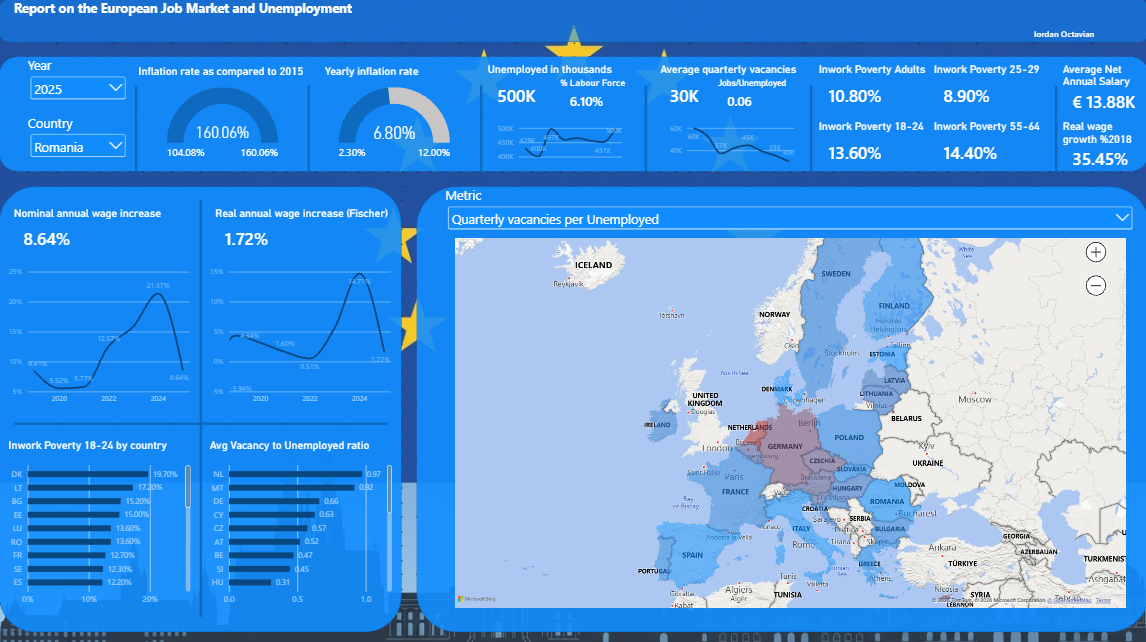

The page's visual inventory and layout, read from the dashboard file:
{"tool":"powerbi","page":{"name":"Page 1","canvas":[1920,1080],"ordinal":0},"visuals":[{"type":"shape","box":[0,0,1920,72],"z":0},{"type":"textbox","box":[24,0,600,72],"z":1000},{"type":"textbox","box":[1728,48,192,24],"z":2000},{"type":"shape","box":[696,312,1224,744],"z":3000},{"type":"shape","box":[0,96,1920,192],"z":4000},{"type":"shape","box":[0,312,672,744],"z":5000},{"type":"lineChart","fields":{"Category":["dim_year.year"],"Y":["unemployment_rate.Unemployed thousands"]},"box":[816,192,240,96],"z":6000},{"type":"slicer","title":"Year","fields":{"Values":["dim_year.year"]},"box":[48,96,168,72],"z":7000},{"type":"slicer","title":"Country","fields":{"Values":["dim_geo.country_name"]},"box":[48,192,168,72],"z":8000},{"type":"gauge","title":"Inflation rate as compared to 2015","fields":{"MaxValue":["inflation_2015.Gauge Max Inflation %2015"],"MinValue":["inflation_2015.Gauge Min Inflation %2015"],"Y":["inflation_2015.Inflation % 2015"]},"box":[216,96,312,192],"z":9000},{"type":"gauge","title":"Yearly inflation rate","fields":{"MaxValue":["yearly_inflation.Gauge Max inflation"],"MinValue":["yearly_inflation.Gauge Min inflation"],"Y":["yearly_inflation.Inflation %"]},"box":[528,96,264,192],"z":10000},{"type":"cardVisual","title":"Unemployed in thousands","fields":{"Data":["unemployment_rate.Unemployed thousands"]},"box":[816,96,240,96],"z":11000},{"type":"cardVisual","title":"% Labour Force","fields":{"Data":["unemployment_rate.Unemployed % of labour force"]},"box":[936,120,120,72],"z":12000},{"type":"cardVisual","title":"Average quarterly vacancies","fields":{"Data":["vacancy_and unemployment.Avg Quarterly vacancies"]},"box":[1104,96,240,96],"z":13000},{"type":"lineChart","fields":{"Category":["dim_year.year"],"Y":["vacancy_and unemployment.Avg Quarterly vacancies"]},"box":[1104,192,240,96],"z":14000},{"type":"cardVisual","title":"Inwork Poverty Adults","fields":{"Data":["inwork_poverty.Inwork Poverty General Pop"]},"box":[1368,96,192,96],"z":15000},{"type":"cardVisual","title":"Inwork Poverty 18-24","fields":{"Data":["inwork_poverty.Inwork Poverty 18-24"]},"box":[1368,192,192,96],"z":16000},{"type":"cardVisual","title":"Inwork Poverty 55-64","fields":{"Data":["inwork_poverty.Inwork Poverty 55-64"]},"box":[1560,192,192,96],"z":17000},{"type":"cardVisual","title":"Inwork Poverty 25-29","fields":{"Data":["inwork_poverty.Inwork Poverty 25-29"]},"box":[1560,96,192,96],"z":18000},{"type":"cardVisual","title":"Jobs/Unemployed","fields":{"Data":["vacancy_and unemployment.Quarterly vacancies per Unemployed"]},"box":[1200,120,144,72],"z":19000},{"type":"shape","box":[504,144,24,144],"z":20000},{"type":"shape","box":[792,144,24,144],"z":21000},{"type":"shape","box":[1056,144,48,144],"z":22000},{"type":"shape","box":[1344,144,24,144],"z":23000},{"type":"cardVisual","title":"Average Net Annual Salary","fields":{"Data":["net_wages.Average Salary"]},"box":[1776,96,144,96],"z":24000},{"type":"shape","box":[1752,144,24,144],"z":24001},{"type":"shape","box":[216,144,24,144],"z":24002},{"type":"cardVisual","title":"Nominal annual wage increase","fields":{"Data":["net_wages.Yearly income growth %"]},"box":[24,336,312,96],"z":24003},{"type":"cardVisual","title":"Real annual wage increase (Fischer)","fields":{"Data":["net_wages.Real income growth %"]},"box":[360,336,312,96],"z":24004},{"type":"lineChart","fields":{"Category":["dim_year.year"],"Y":["net_wages.YoY Wage Growth %"]},"box":[0,432,336,264],"z":24005},{"type":"lineChart","fields":{"Category":["dim_year.year"],"Y":["net_wages.Real YoY Wage Growth"]},"box":[336,432,336,264],"z":24006},{"type":"cardVisual","title":"Real wage growth %2018","fields":{"Data":["net_wages.Rolling real wage growth %2018"]},"box":[1776,192,144,96],"z":24007},{"type":"clusteredBarChart","title":"Inwork Poverty 18-24 by country","fields":{"Category":["dim_geo.geo"],"Y":["inwork_poverty.Inwork Poverty 18-24"]},"box":[0,720,336,312],"z":24008},{"type":"clusteredBarChart","title":"Avg Vacancy to Unemployed ratio","fields":{"Category":["dim_geo.geo"],"Y":["vacancy_and unemployment.Quarterly vacancies per Unemployed"]},"box":[336,720,336,312],"z":24009},{"type":"shape","box":[312,336,48,696],"z":24010},{"type":"shape","box":[24,696,624,24],"z":24011},{"type":"slicer","title":"Metric","fields":{"Values":["Parameter.Parameter"]},"box":[744,312,1152,72],"z":24012},{"type":"filledMap","fields":{"Category":["dim_geo.country_name"]},"box":[744,384,1152,648],"z":24013}]}

Visuals, with their boxes in screenshot pixels (x1, y1, x2, y2), scaled from the page's 1920x1080 canvas onto the 1146x642 screenshot:
shape: l=0, t=0, r=1145, b=43
textbox: l=14, t=0, r=372, b=43
textbox: l=1031, t=29, r=1145, b=43
shape: l=415, t=185, r=1145, b=628
shape: l=0, t=57, r=1145, b=171
shape: l=0, t=185, r=401, b=628
lineChart - dim_year.year x unemployment_rate.Unemployed thousands: l=487, t=114, r=630, b=171
"Year" slicer: l=29, t=57, r=129, b=100
"Country" slicer: l=29, t=114, r=129, b=157
"Inflation rate as compared to 2015" gauge: l=129, t=57, r=315, b=171
"Yearly inflation rate" gauge: l=315, t=57, r=473, b=171
"Unemployed in thousands" cardVisual: l=487, t=57, r=630, b=114
"% Labour Force" cardVisual: l=559, t=71, r=630, b=114
"Average quarterly vacancies" cardVisual: l=659, t=57, r=802, b=114
lineChart - dim_year.year x vacancy_and unemployment.Avg Quarterly vacancies: l=659, t=114, r=802, b=171
"Inwork Poverty Adults" cardVisual: l=817, t=57, r=931, b=114
"Inwork Poverty 18-24" cardVisual: l=817, t=114, r=931, b=171
"Inwork Poverty 55-64" cardVisual: l=931, t=114, r=1046, b=171
"Inwork Poverty 25-29" cardVisual: l=931, t=57, r=1046, b=114
"Jobs/Unemployed" cardVisual: l=716, t=71, r=802, b=114
shape: l=301, t=86, r=315, b=171
shape: l=473, t=86, r=487, b=171
shape: l=630, t=86, r=659, b=171
shape: l=802, t=86, r=817, b=171
"Average Net Annual Salary" cardVisual: l=1060, t=57, r=1145, b=114
shape: l=1046, t=86, r=1060, b=171
shape: l=129, t=86, r=143, b=171
"Nominal annual wage increase" cardVisual: l=14, t=200, r=201, b=257
"Real annual wage increase (Fischer)" cardVisual: l=215, t=200, r=401, b=257
lineChart - dim_year.year x net_wages.YoY Wage Growth %: l=0, t=257, r=201, b=414
lineChart - dim_year.year x net_wages.Real YoY Wage Growth: l=201, t=257, r=401, b=414
"Real wage growth %2018" cardVisual: l=1060, t=114, r=1145, b=171
"Inwork Poverty 18-24 by country" clusteredBarChart: l=0, t=428, r=201, b=613
"Avg Vacancy to Unemployed ratio" clusteredBarChart: l=201, t=428, r=401, b=613
shape: l=186, t=200, r=215, b=613
shape: l=14, t=414, r=387, b=428
"Metric" slicer: l=444, t=185, r=1132, b=228
filledMap - dim_geo.country_name: l=444, t=228, r=1132, b=613
